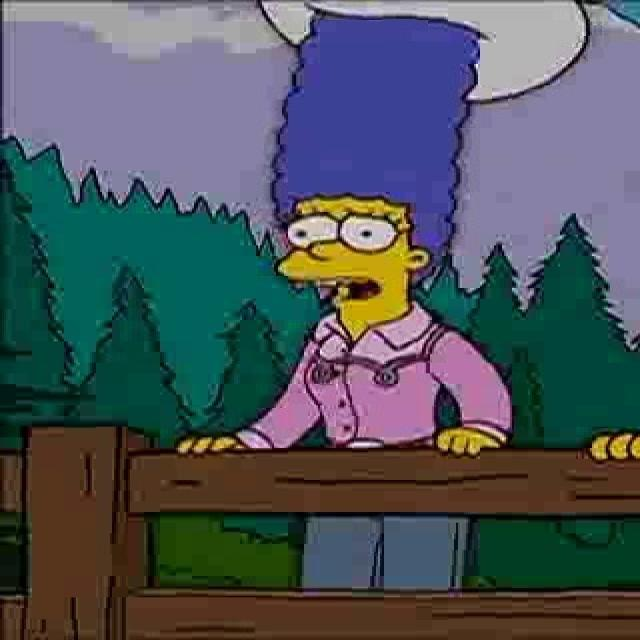Marge Simpson: (274, 33, 482, 330)
